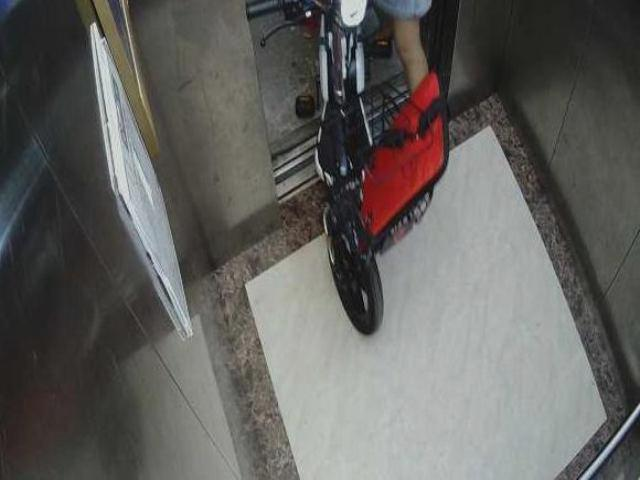emotor: (262, 9, 452, 340)
